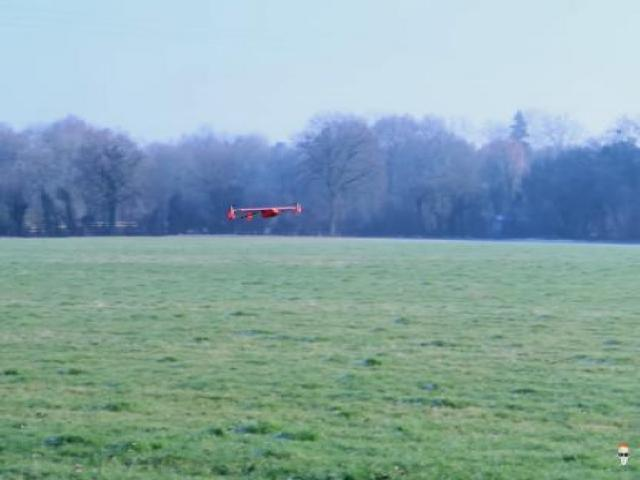uav: (220, 202, 305, 226)
